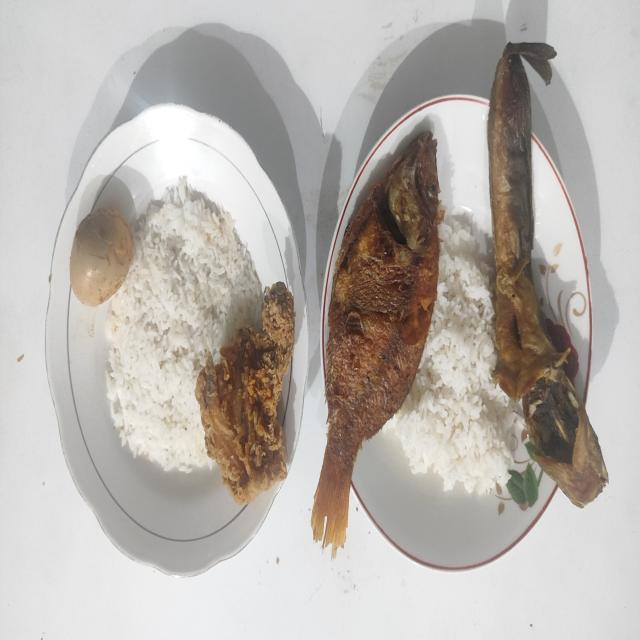ikan_mujair: (311, 131, 444, 557)
nasi_putih: (105, 178, 262, 472), (388, 215, 518, 495)
